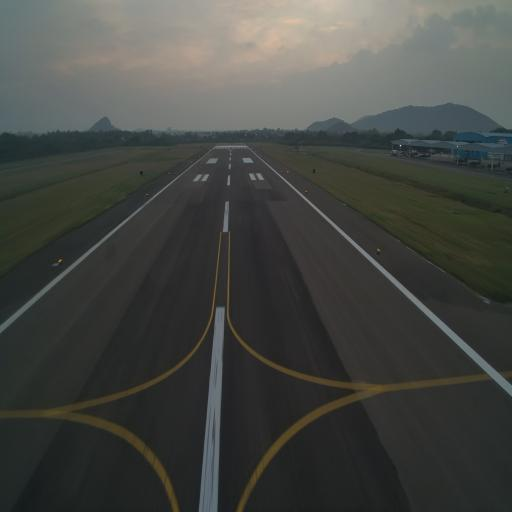on: (56, 256, 64, 267), (376, 245, 381, 253), (146, 192, 150, 198), (305, 188, 307, 194)
